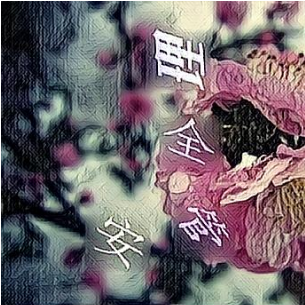hanzi: (147, 23, 219, 98), (88, 214, 154, 277), (170, 196, 235, 251), (161, 113, 219, 174)
